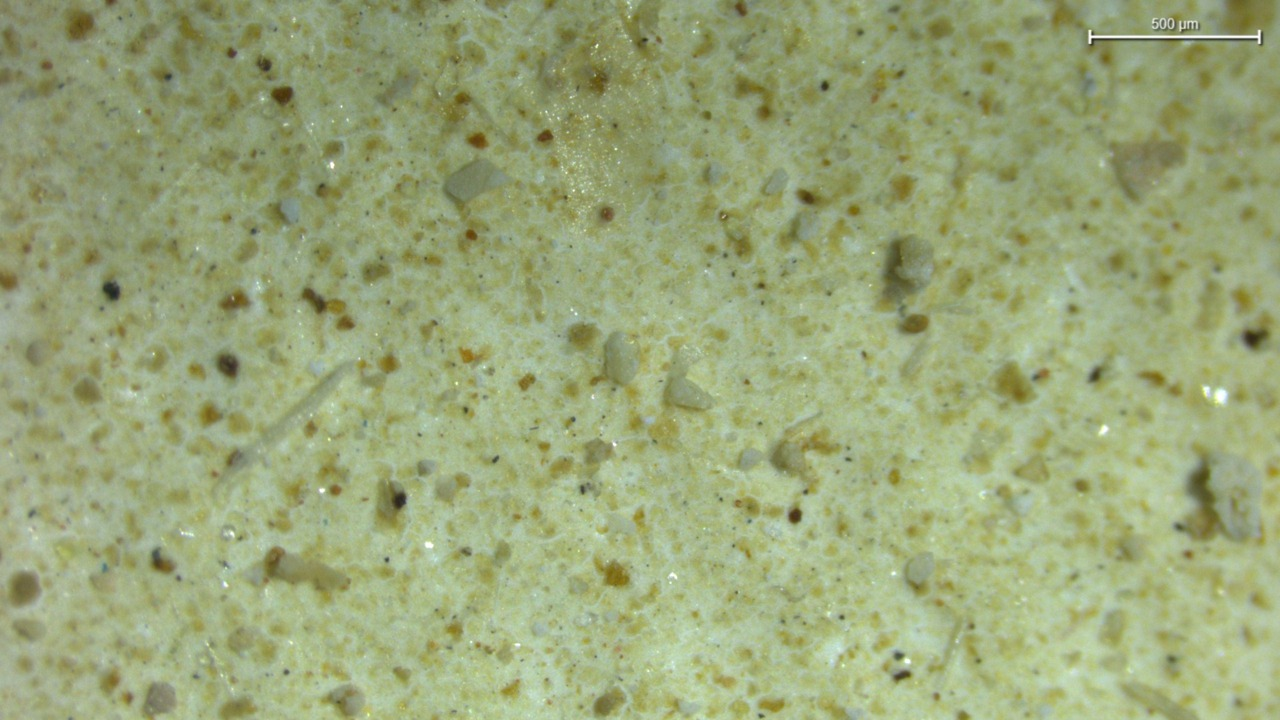microplastic_fragment: (444, 159, 510, 202), (894, 235, 933, 287), (604, 332, 639, 384), (665, 376, 713, 409), (906, 552, 935, 586), (791, 209, 819, 240), (761, 169, 788, 194), (279, 198, 300, 224), (739, 449, 762, 470)
